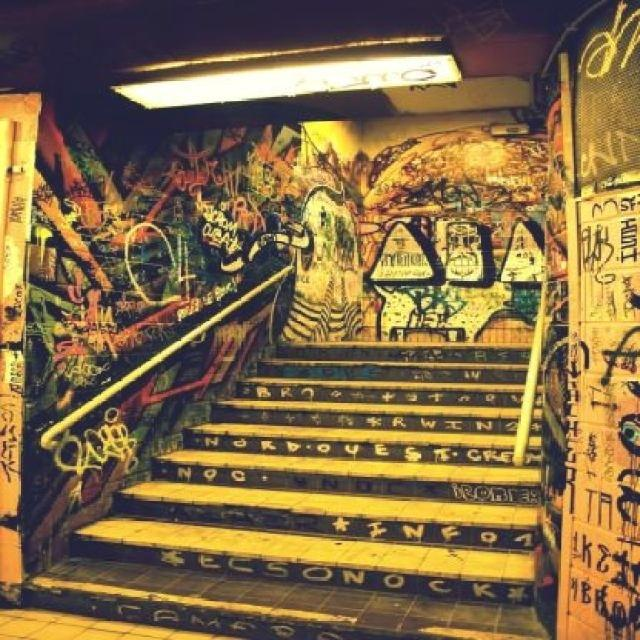stair: (19, 338, 556, 640)
